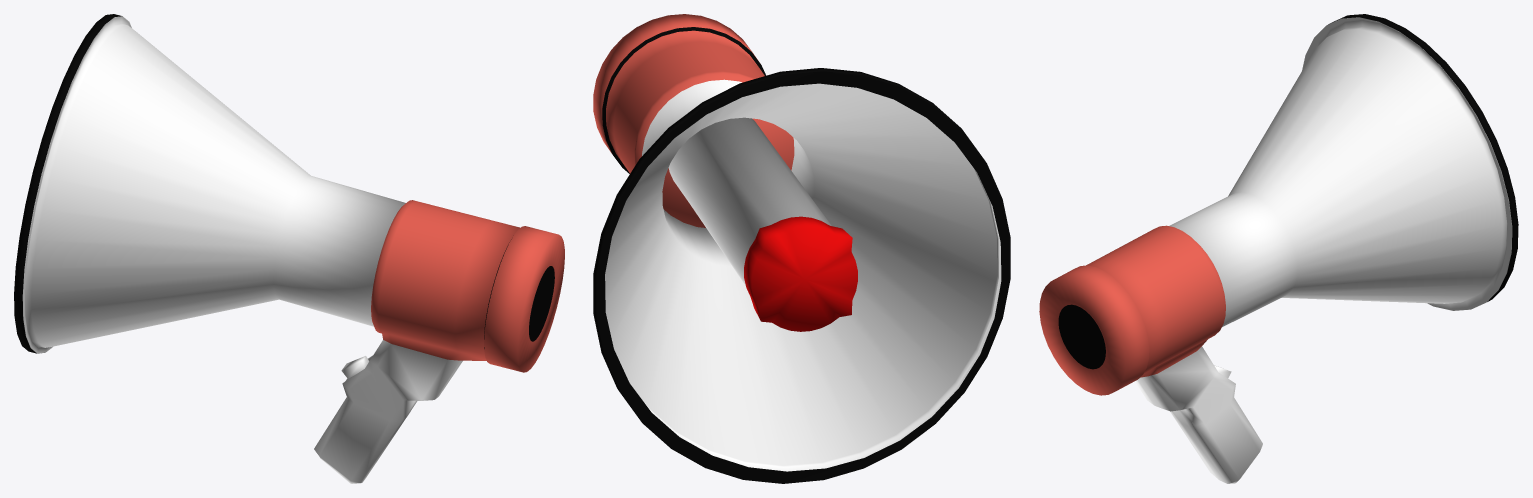
File: megaphone.glb
The picture shows the model from 3 angles, left to right: view 1: azimuth 30°, elevation 25°; view 2: azimuth 150°, elevation 25°; view 3: azimuth 270°, elevation 25°; orthographic projection. The views are drawn at different scales.
Parts seen in each view (by area): view 1: MegaPhone_Cylinder.001; view 2: MegaPhone_Cylinder.001; view 3: MegaPhone_Cylinder.001.
Part boxes in pixels (bbox=[...]): MegaPhone_Cylinder.001: bbox=[14, 14, 564, 483]; MegaPhone_Cylinder.001: bbox=[593, 14, 1010, 483]; MegaPhone_Cylinder.001: bbox=[1039, 14, 1518, 483].
Bounding box in the file's own units: 2.6 × 2.38 × 2.7.
